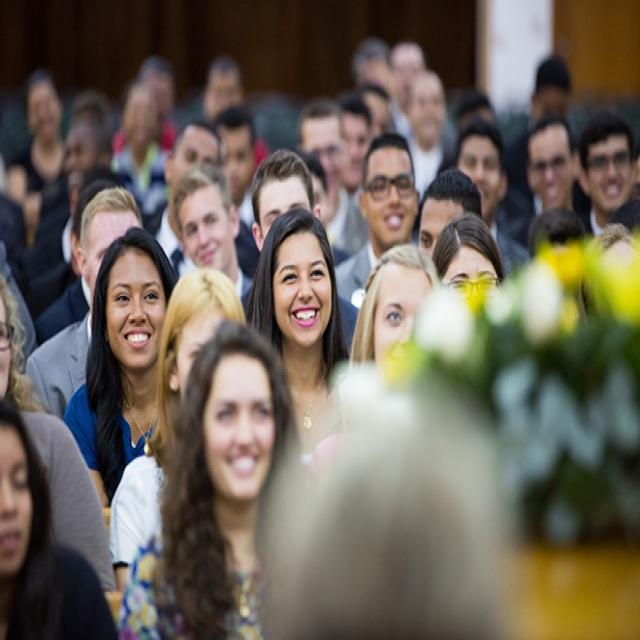body: (1, 34, 638, 304), (116, 313, 323, 638), (104, 264, 251, 602), (61, 223, 183, 544), (0, 274, 121, 597), (240, 205, 351, 470), (23, 183, 146, 420), (0, 398, 120, 640), (336, 240, 444, 423), (169, 164, 258, 319)
